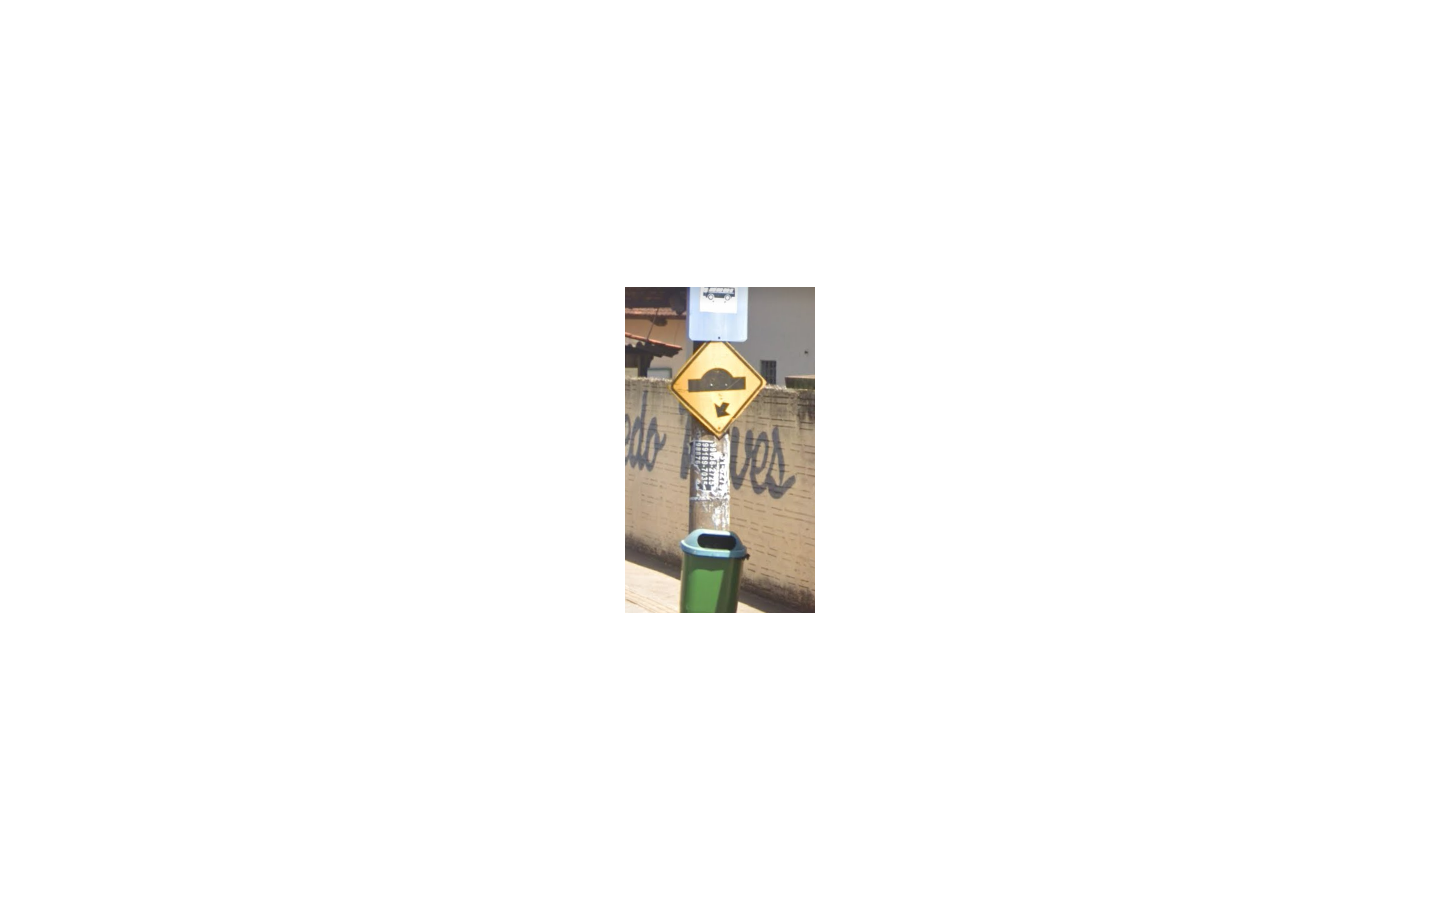lomb: (670, 341, 767, 435)
